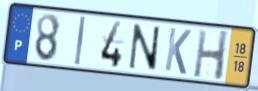4: (98, 19, 124, 69)
8: (33, 12, 61, 63)
H: (192, 28, 231, 83)
I: (73, 15, 88, 68)
K: (163, 25, 193, 77)
N: (128, 22, 161, 74)
